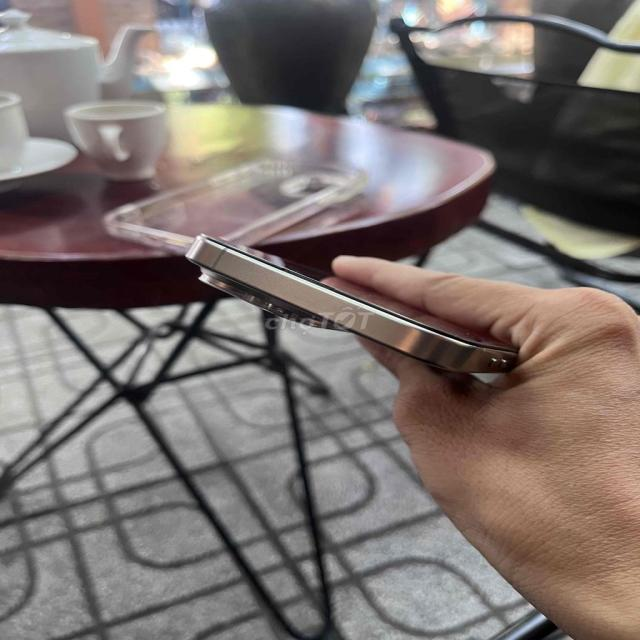gen_15: (175, 223, 536, 392)
